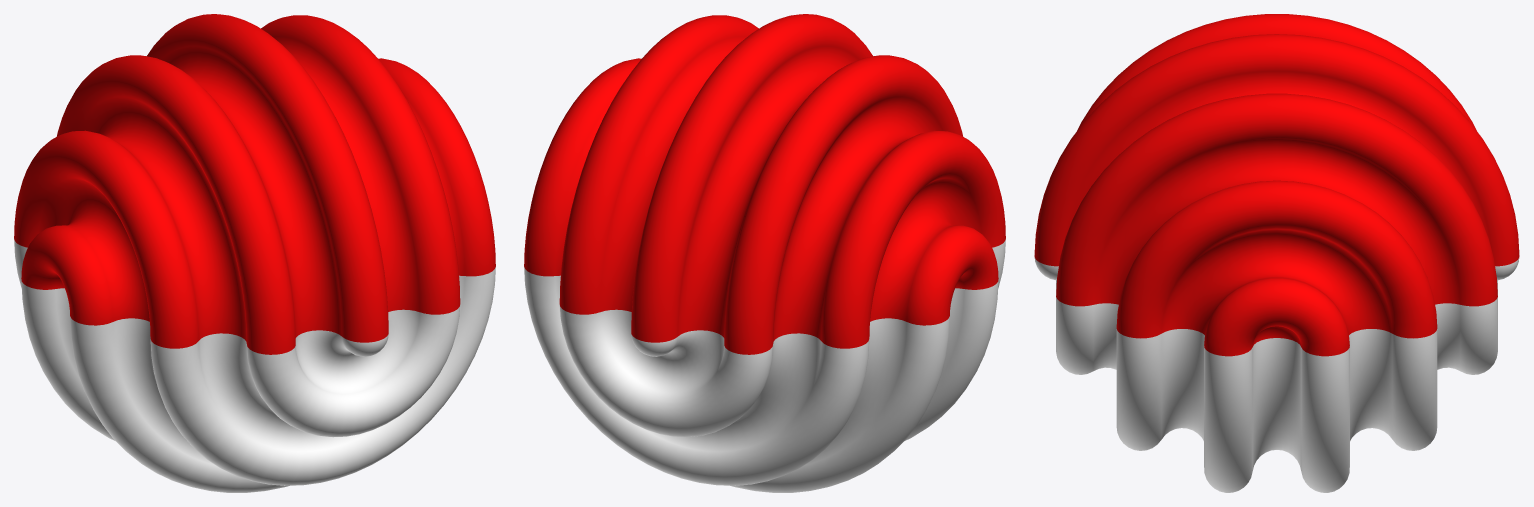
Rendered from magic_ball_exr.glb.
3 renders of one model, left to right at view 1: azimuth 30°, elevation 25°; view 2: azimuth 150°, elevation 25°; view 3: azimuth 270°, elevation 25°, orthographic.
Parts seen in each view (by area): view 1: MAGIC_BALL[1]; view 2: MAGIC_BALL[1]; view 3: MAGIC_BALL[1].
Part boxes in pixels (x1,y1,x2,y2): MAGIC_BALL[1]: (14,14,495,492); MAGIC_BALL[1]: (524,14,1005,492); MAGIC_BALL[1]: (1034,14,1519,492).
Size of the model in its own units: 0.0488 by 0.0494 by 0.05.
